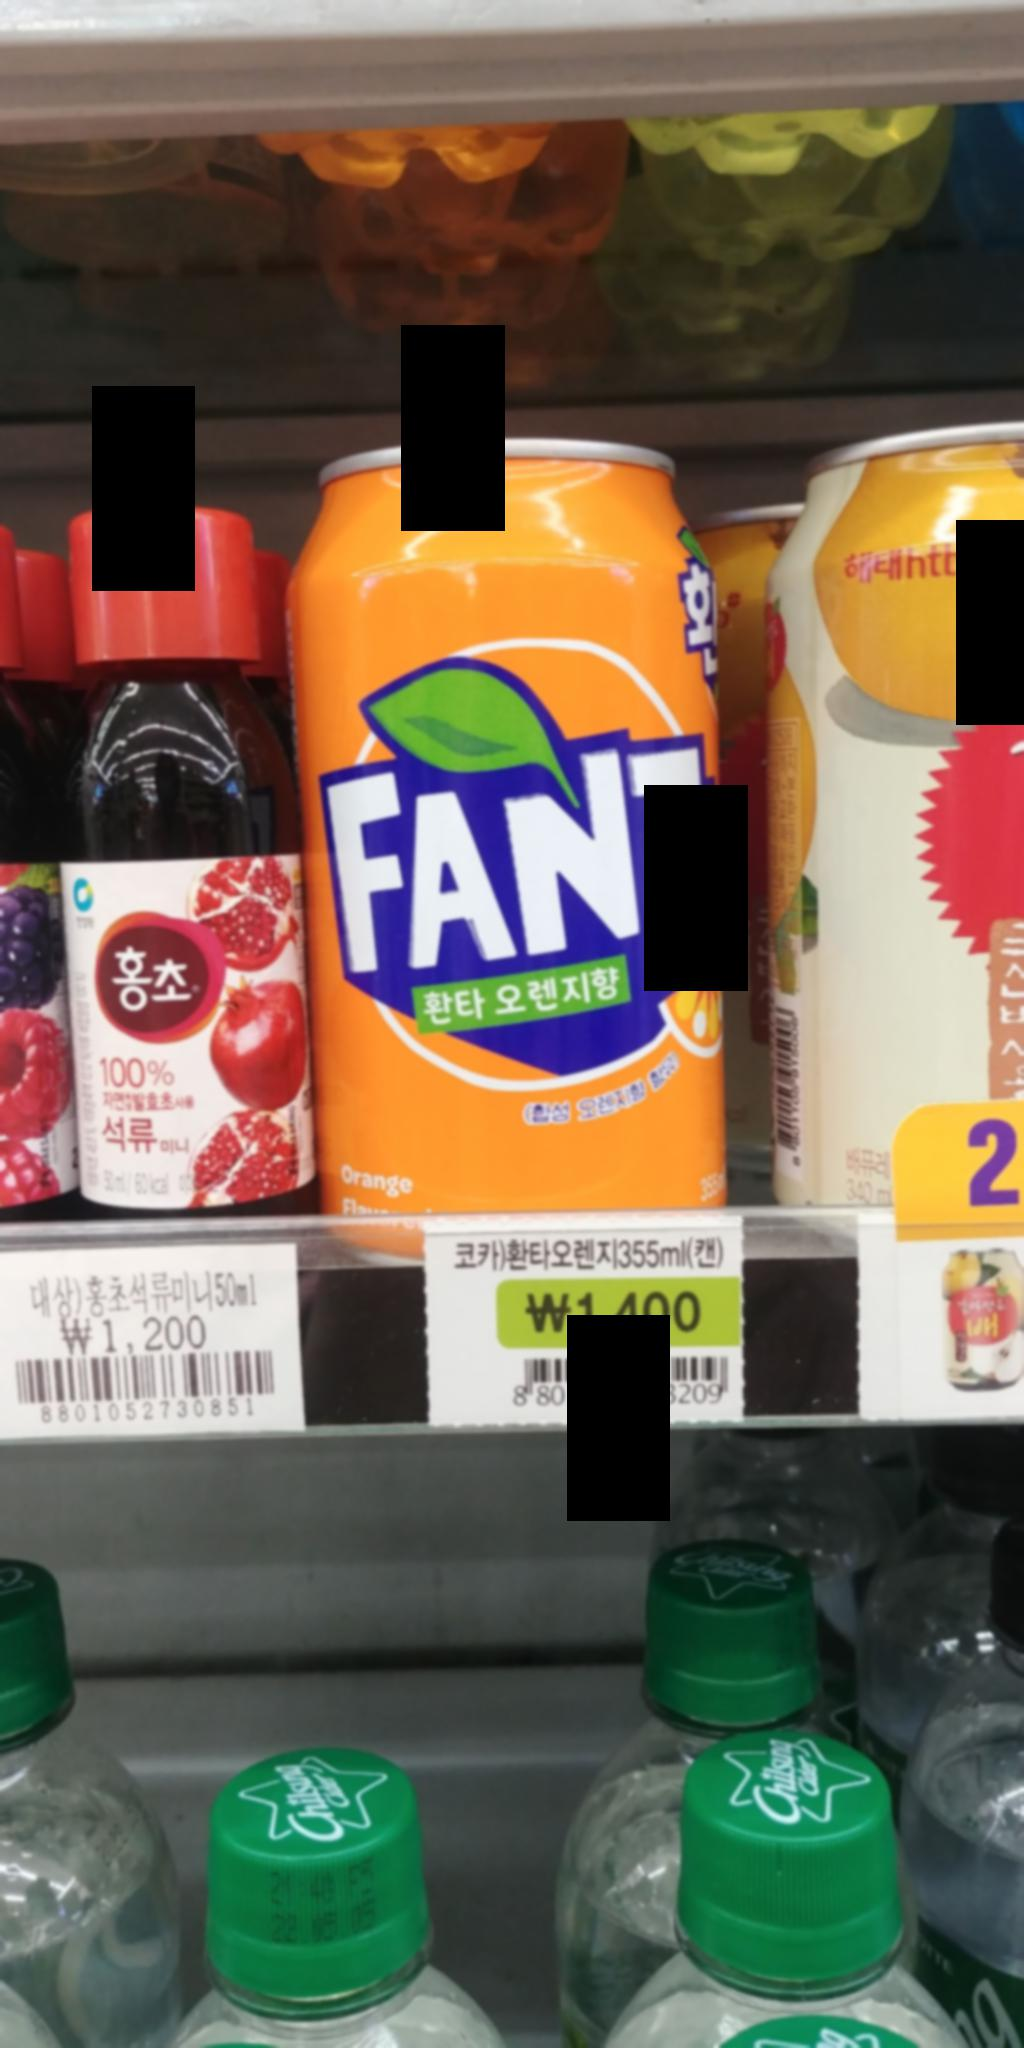fanta_orange: (282, 423, 738, 1245)
